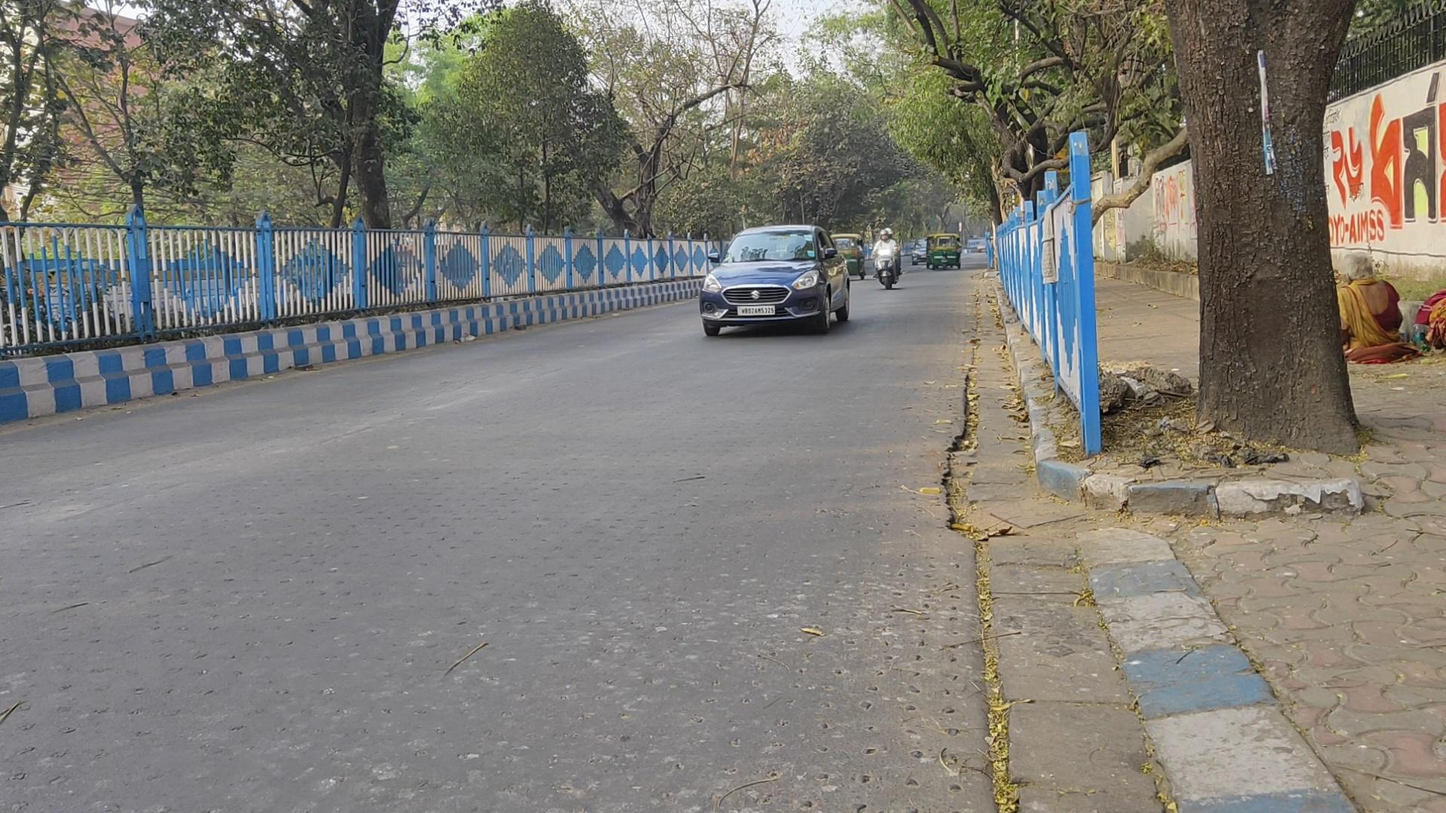Auto: (830, 233, 866, 281), (932, 233, 962, 271), (924, 234, 948, 269)
bike: (871, 227, 903, 291)
car: (700, 224, 850, 336), (910, 237, 936, 266)
